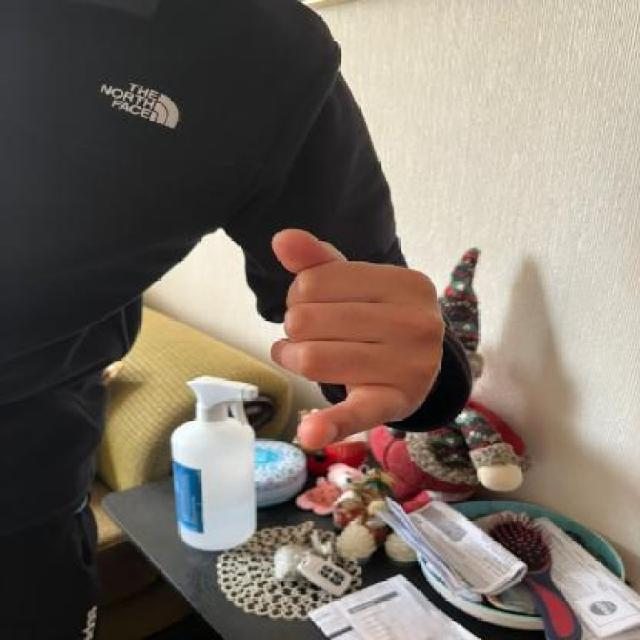Z: (262, 223, 450, 448)
